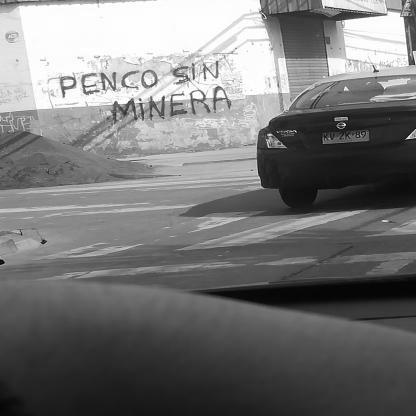Patente: (320, 128, 372, 146)
